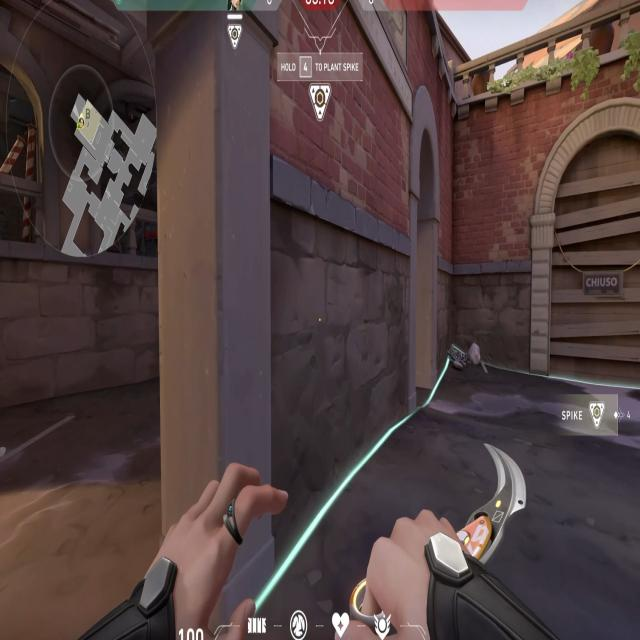B_Boathouse: (403, 77, 444, 427)
